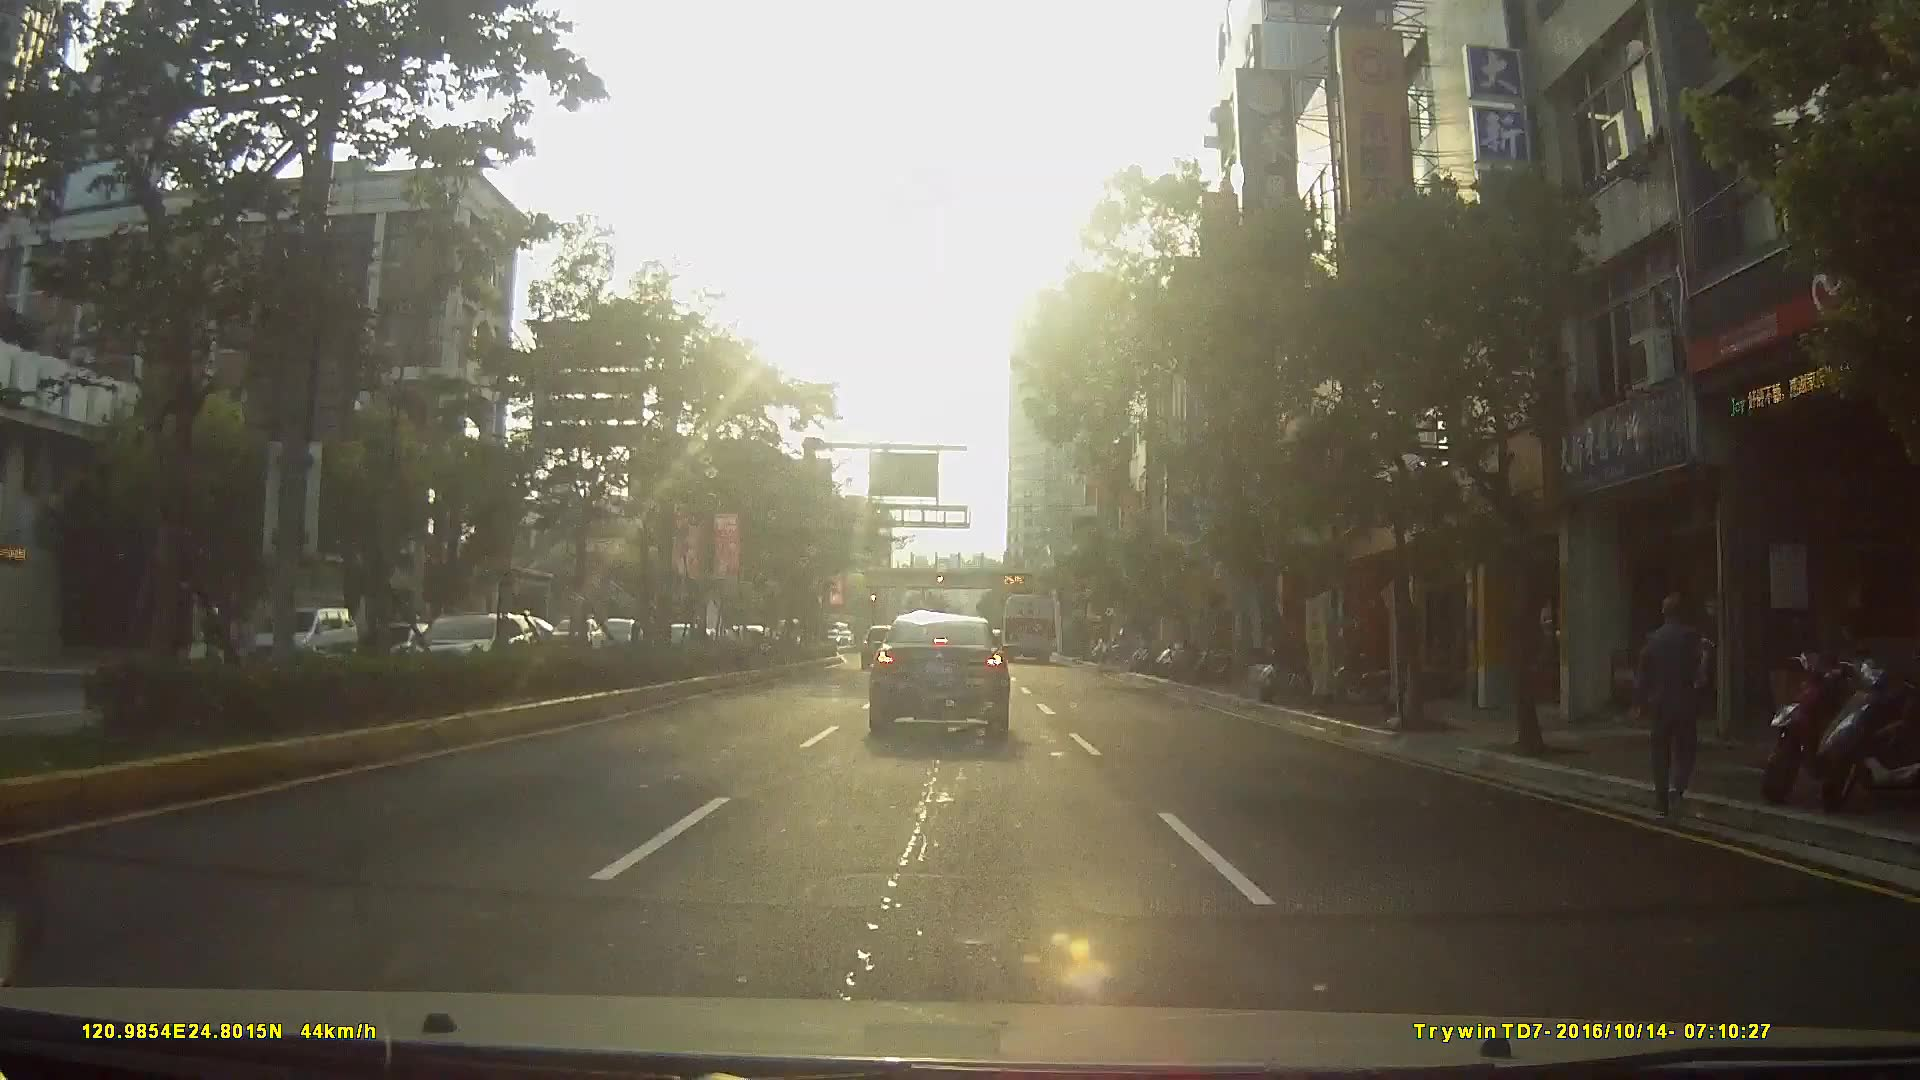pedestrian: (1639, 585, 1709, 822)
vehicle: (865, 607, 1011, 733), (242, 604, 353, 670), (998, 587, 1057, 656), (860, 621, 899, 662)
